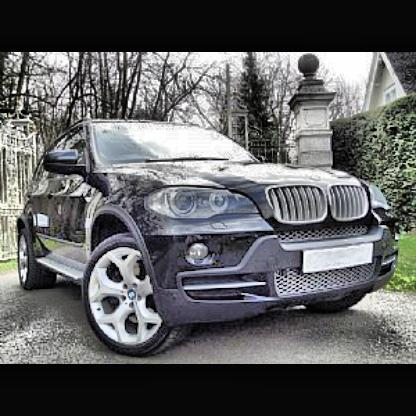BMW X5 SUV 2007: (15, 120, 406, 357)
